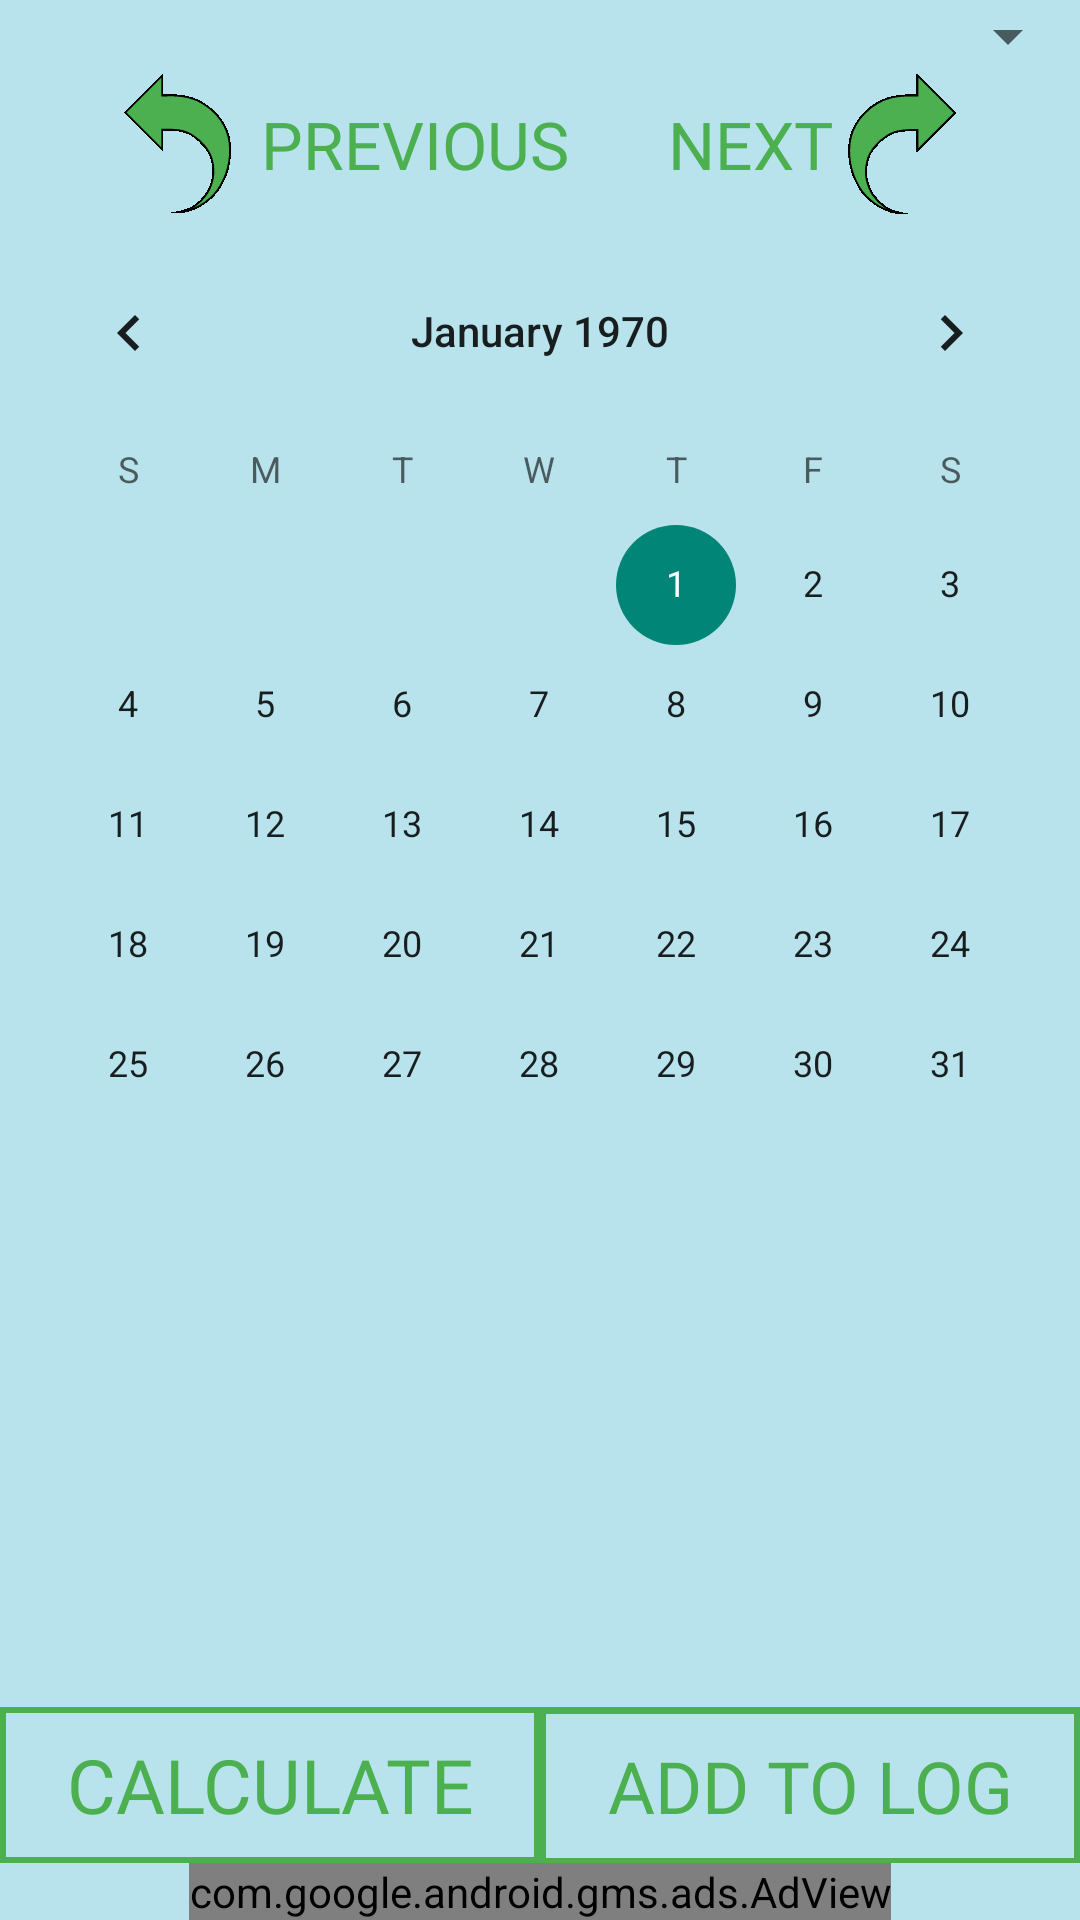

Named icons in this screenshot (1080*1920) and their bounding boxes, region(x1, y1, x2, y2):
arrowback: region(124, 74, 231, 213)
arrowforward: region(848, 74, 956, 214)
